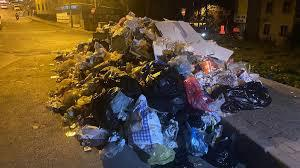Garbage: (82, 76, 218, 165), (122, 62, 270, 104), (60, 52, 129, 114), (127, 16, 196, 71), (97, 22, 152, 66), (143, 37, 231, 60)
